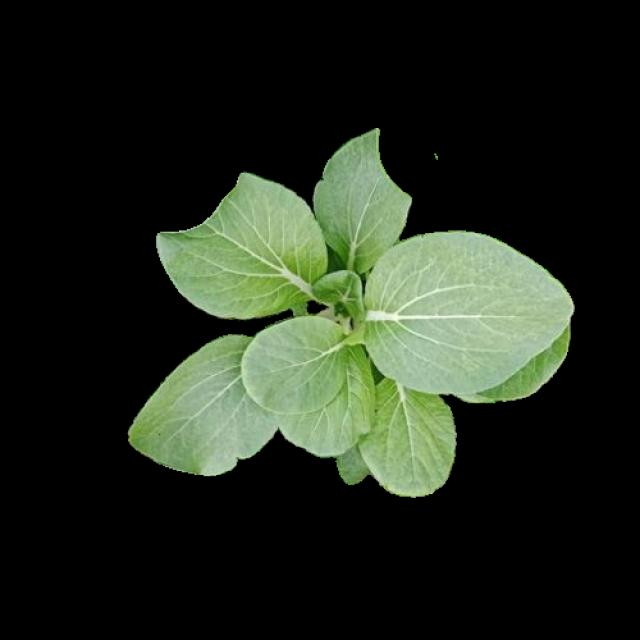not-mature: (133, 133, 571, 497)
unhealthy: (316, 132, 411, 275)
